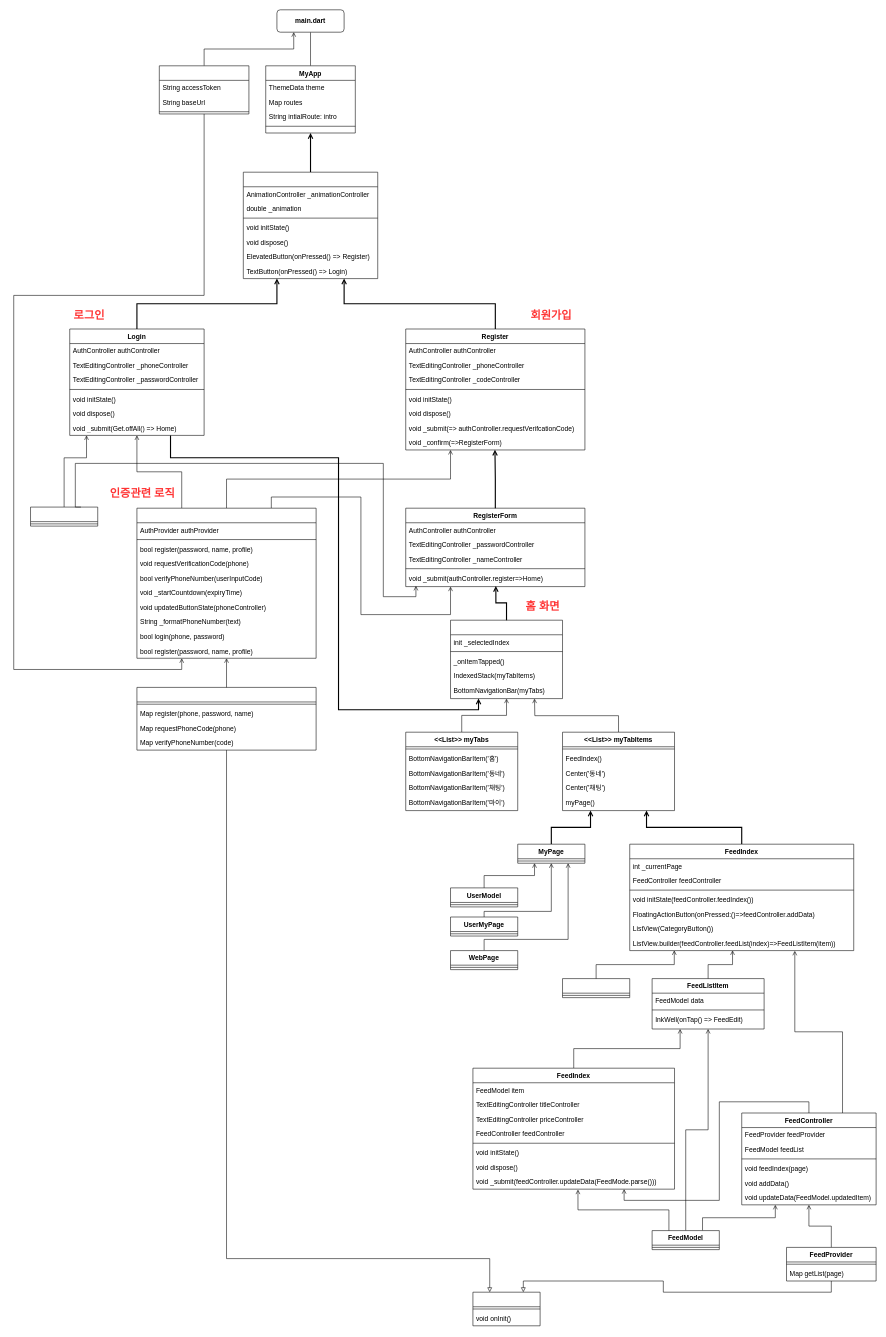
Image size: 886x1337. Some labels were removed from this diagram. Each missing label, with the box of its shape:
AuthController: (136, 508, 316, 658)
AuthProvider: (136, 687, 316, 750)
CategoryButton: (562, 978, 630, 998)
Global: (159, 65, 249, 114)
Home: (450, 620, 563, 699)
Intro: (243, 172, 378, 279)
LabelTextField: (30, 507, 98, 526)
Provider: (472, 1292, 540, 1326)
